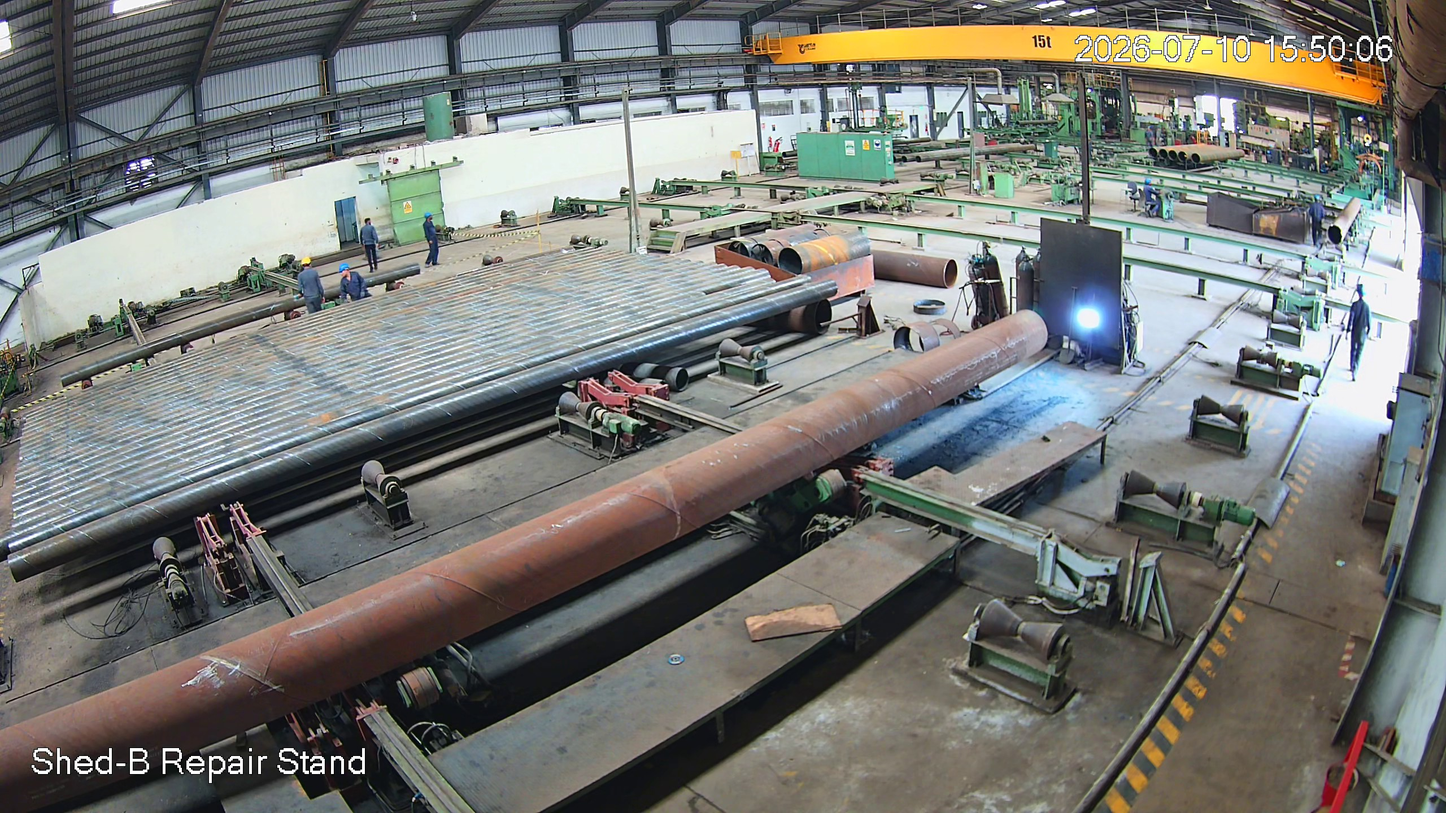Helmet: (337, 263, 357, 282), (298, 252, 315, 270), (422, 209, 438, 226)
Person: (337, 265, 374, 307), (296, 260, 322, 311), (419, 213, 441, 268), (359, 218, 381, 271)
